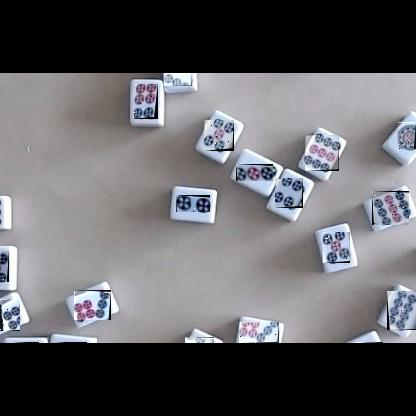1p: (398, 122, 416, 149)
2p: (176, 195, 210, 212), (53, 342, 87, 343)
3p: (236, 164, 273, 181)
4p: (275, 178, 303, 208), (10, 342, 39, 343), (356, 342, 383, 343)
5p: (204, 120, 234, 151), (322, 232, 350, 263), (0, 251, 9, 282)
6p: (134, 84, 158, 119), (185, 337, 214, 343)
7p: (74, 290, 111, 320), (239, 322, 279, 343), (164, 73, 192, 86)
8p: (387, 291, 416, 330), (0, 299, 20, 331)
9p: (372, 191, 409, 225), (305, 135, 339, 171)
